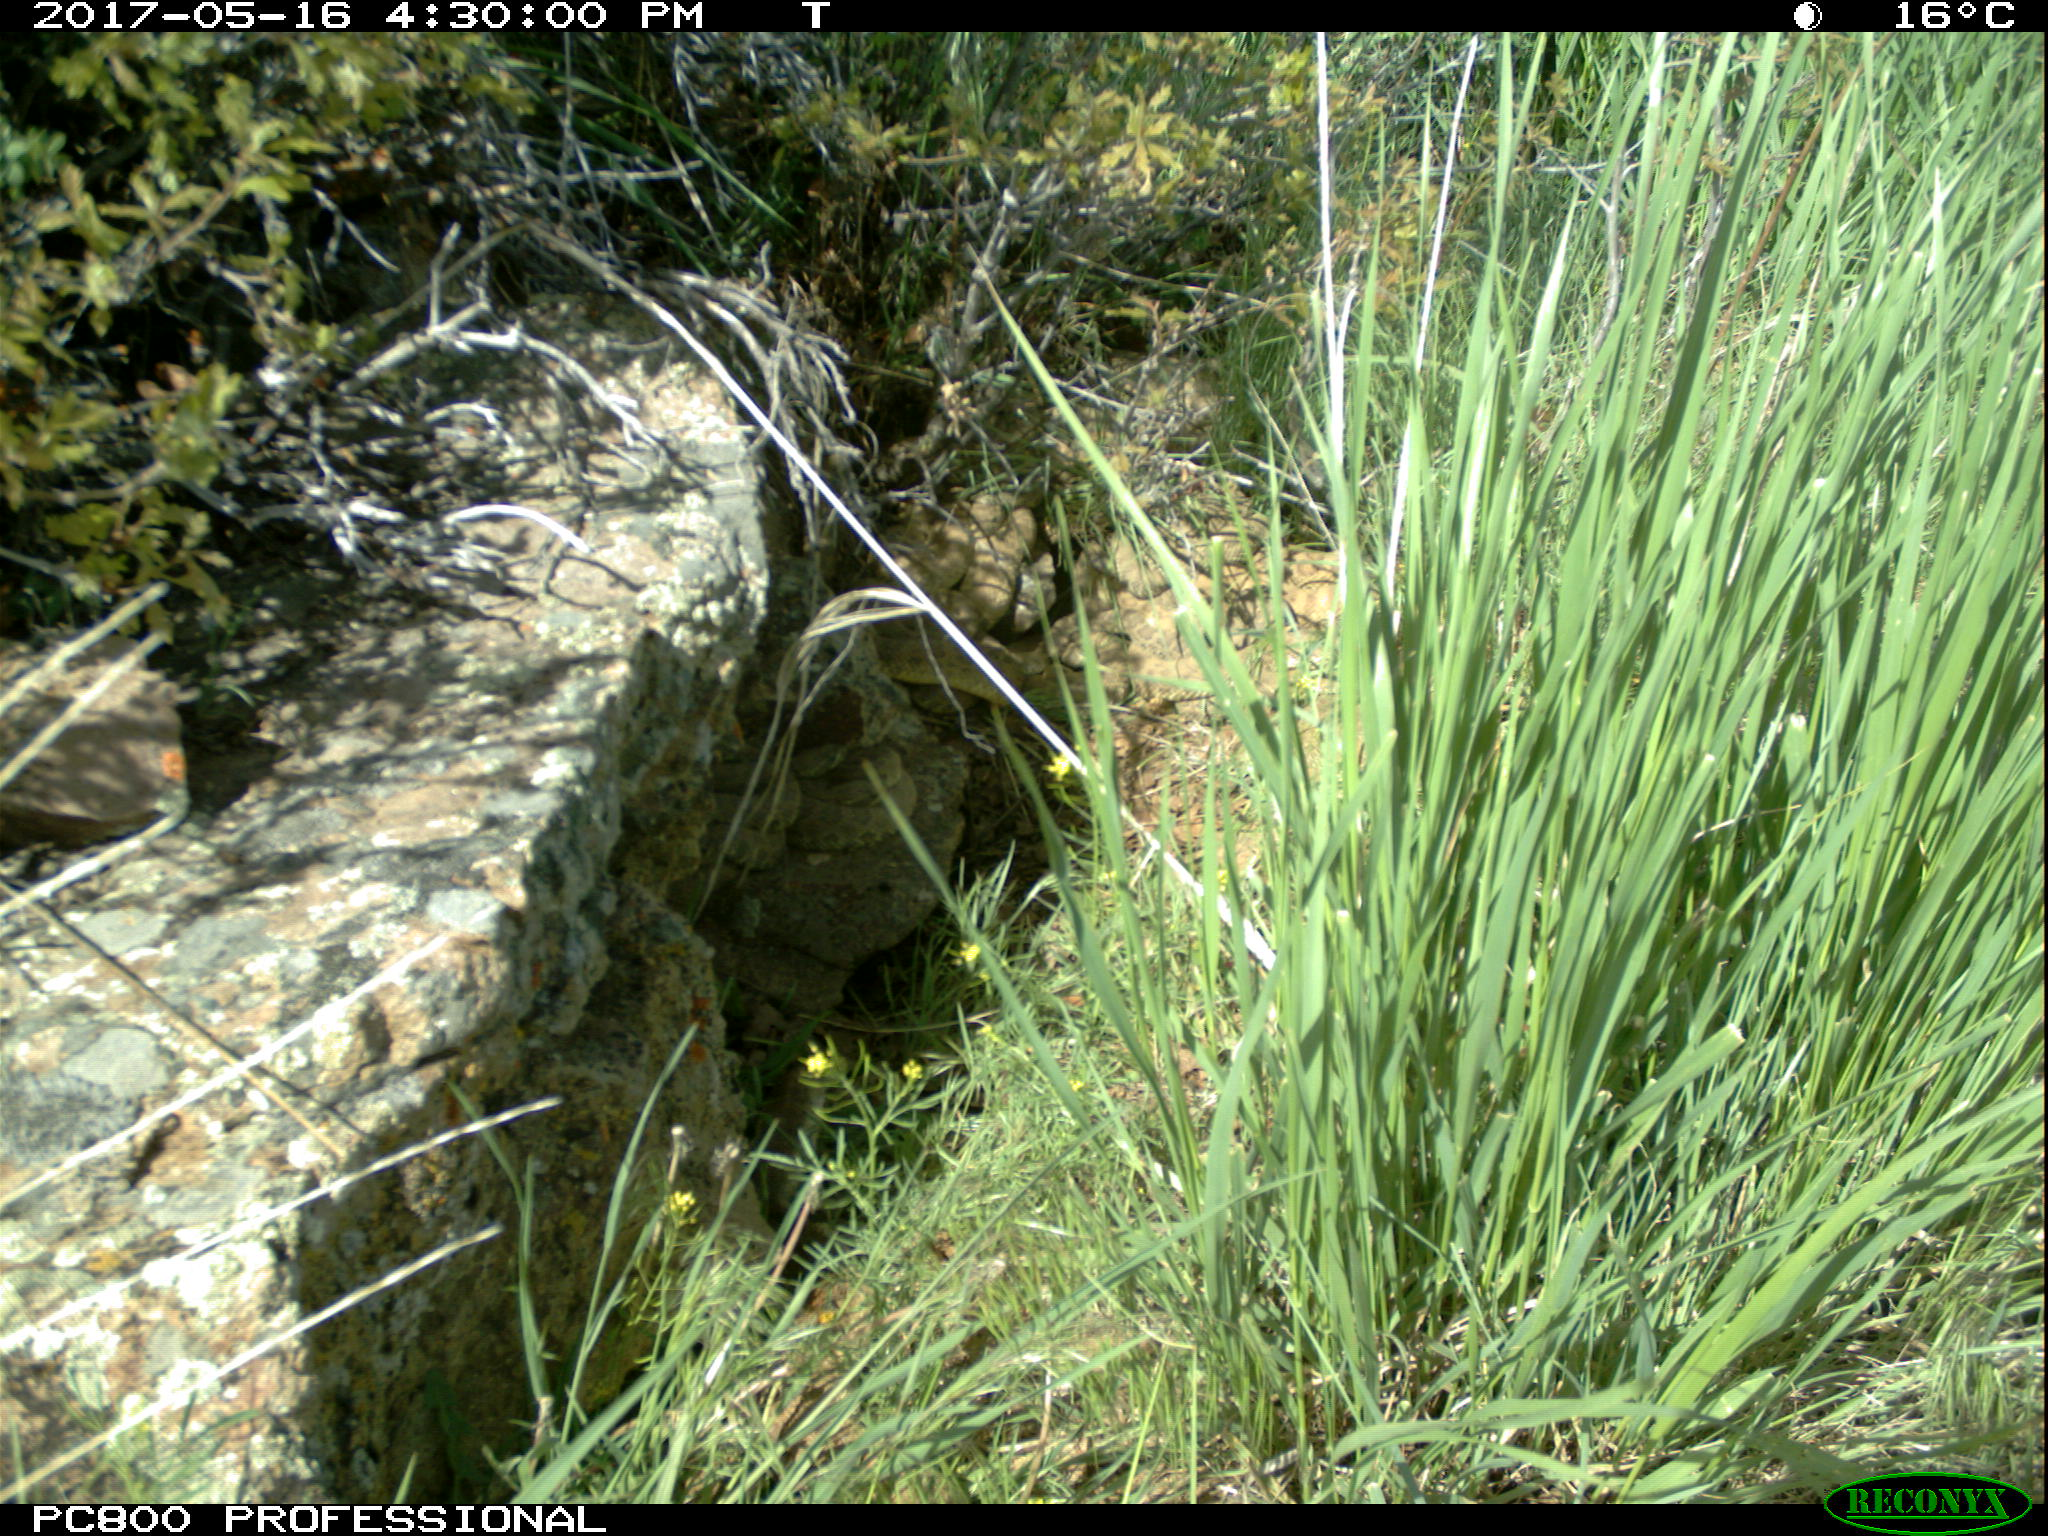snake: (861, 494, 1035, 637), (1066, 536, 1171, 671), (797, 750, 922, 855), (872, 637, 1042, 712), (705, 792, 805, 870)
